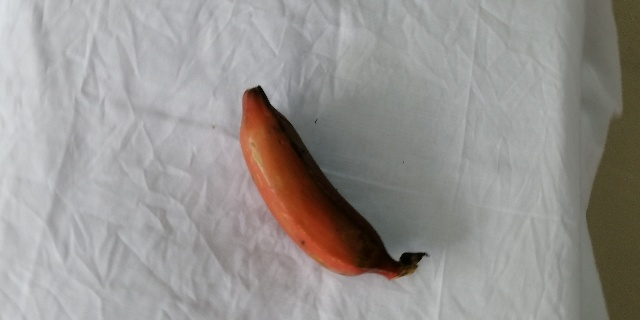banana_red: (236, 85, 435, 284)
